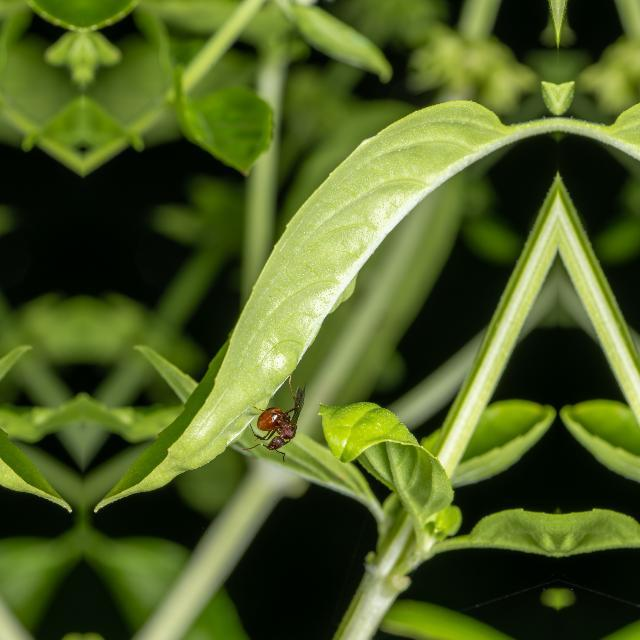Apheanogaster: (244, 385, 308, 467)
